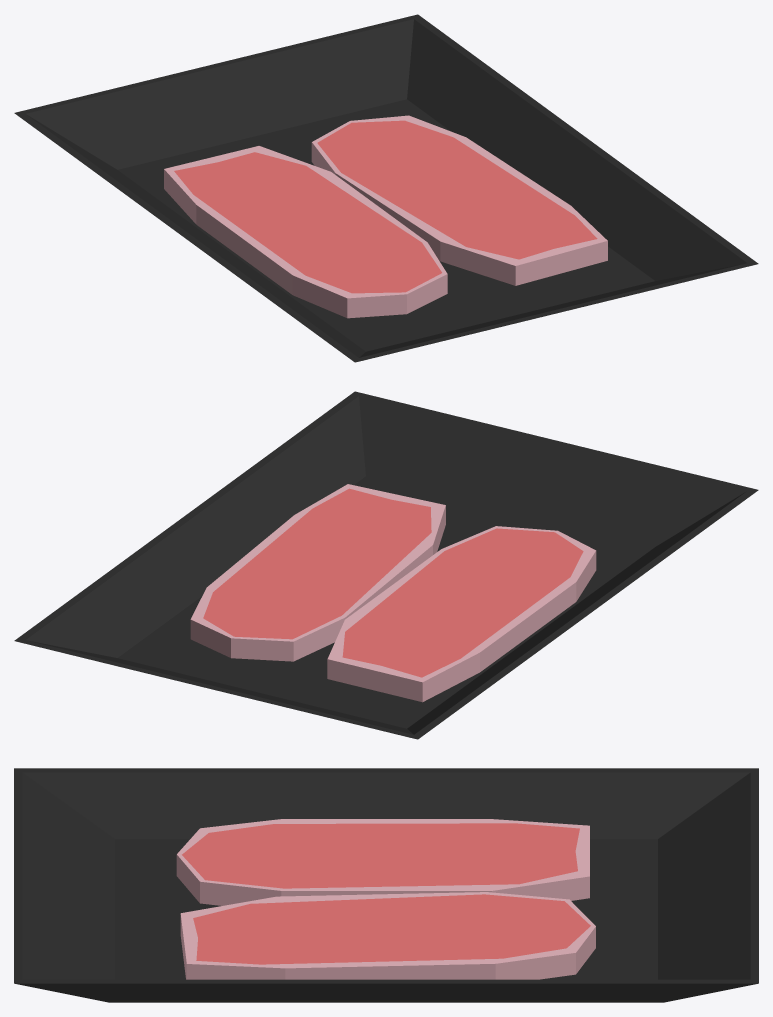
File: carne01.fbx
The picture shows the model from 3 angles, top to bottom: view 1: azimuth 30°, elevation 25°; view 2: azimuth 150°, elevation 25°; view 3: azimuth 270°, elevation 25°; orthographic projection. The views are drawn at different scales.
Visible parts, largest first — view 1: Chuletas; view 2: Chuletas; view 3: Chuletas.
Part boxes in pixels (x1,y1,x2,y2): Chuletas: (14,14,758,362); Chuletas: (14,391,758,739); Chuletas: (14,768,758,1002).
Size of the model in its own units: 13.53 by 1.37 by 19.79.
